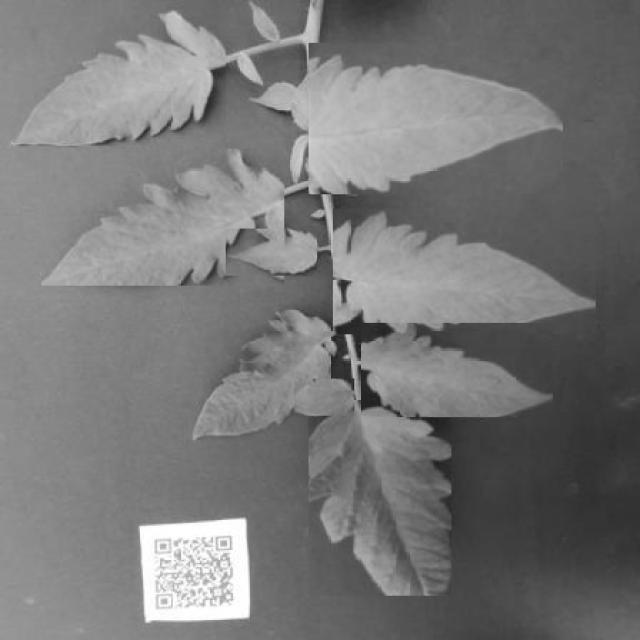Healthy: (309, 43, 562, 194), (42, 149, 284, 285), (334, 209, 596, 334), (13, 0, 226, 146), (309, 400, 451, 596), (193, 308, 330, 441), (360, 323, 553, 417), (225, 228, 318, 276), (295, 378, 354, 416)
